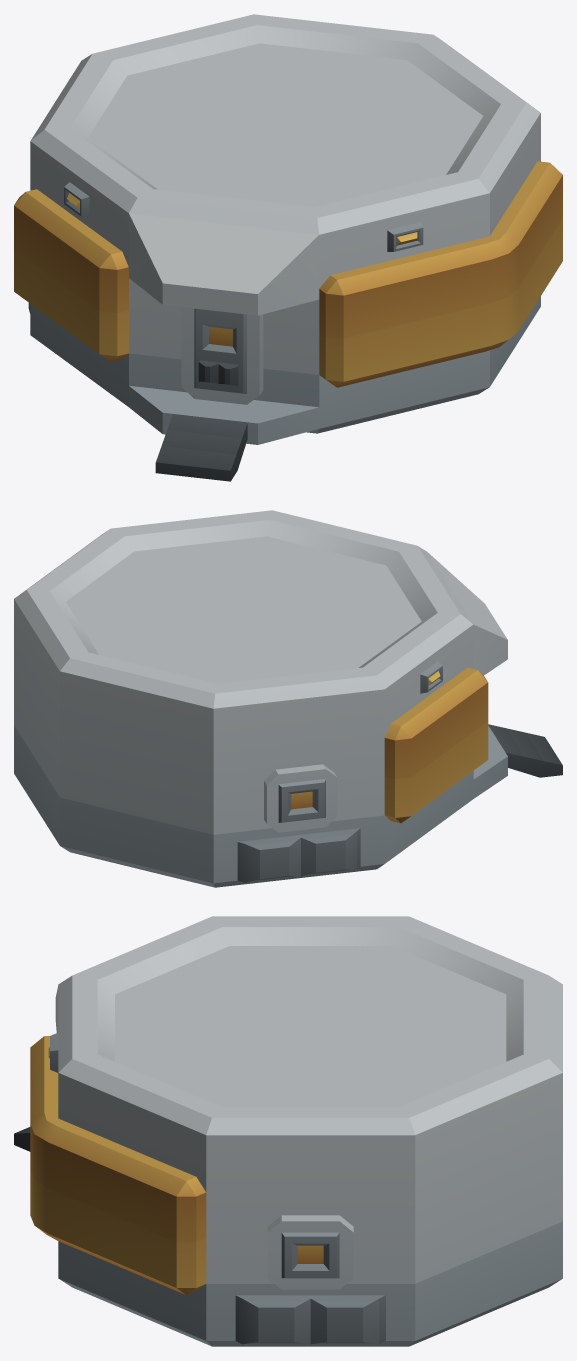
Rendered from space-basemodule-a.glb.
3 views of the same model, one above another, from view 1: azimuth 30°, elevation 25°; view 2: azimuth 150°, elevation 25°; view 3: azimuth 270°, elevation 25° (orthographic). The views are drawn at different scales.
Parts seen in each view (by area): view 1: basemodule_A; view 2: basemodule_A; view 3: basemodule_A.
Part boxes in pixels (<box>): basemodule_A: <box>14,14,562,481</box>; basemodule_A: <box>14,510,562,887</box>; basemodule_A: <box>14,916,562,1346</box>.
Size of the model in its own units: 2.25 by 1 by 2.18.
